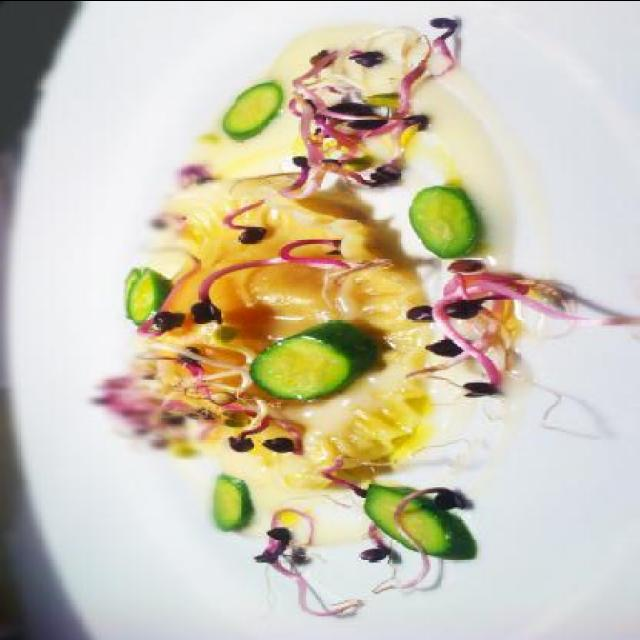Pasta with carbonara sauce: (74, 26, 560, 546)
